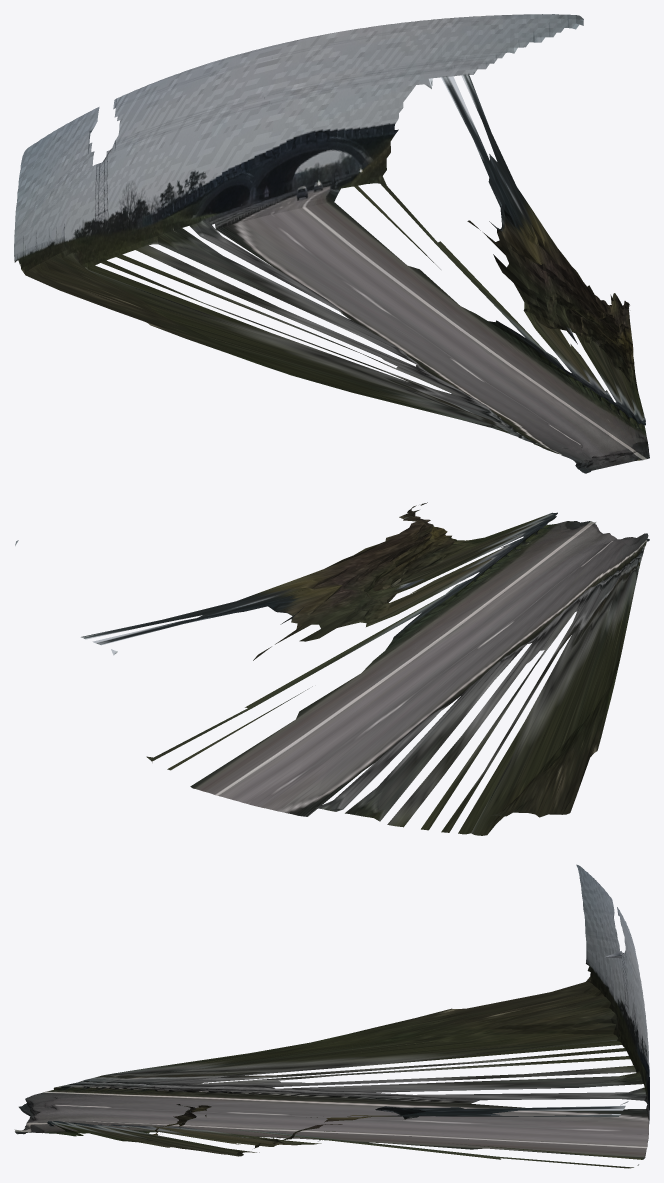
The picture shows the model from 3 angles, top to bottom: view 1: azimuth 30°, elevation 25°; view 2: azimuth 150°, elevation 25°; view 3: azimuth 270°, elevation 25°; orthographic projection. The views are drawn at different scales.
Visible parts, largest first — view 1: defaultobject; view 2: defaultobject; view 3: defaultobject.
Boxes of the visible parts, <box> form: defaultobject: <box>14,14,649,473</box>; defaultobject: <box>15,502,649,835</box>; defaultobject: <box>14,864,649,1168</box>.
Size of the model in its own units: 40.8 by 12.22 by 44.87.
Materials: 1 (1 with a texture image).
